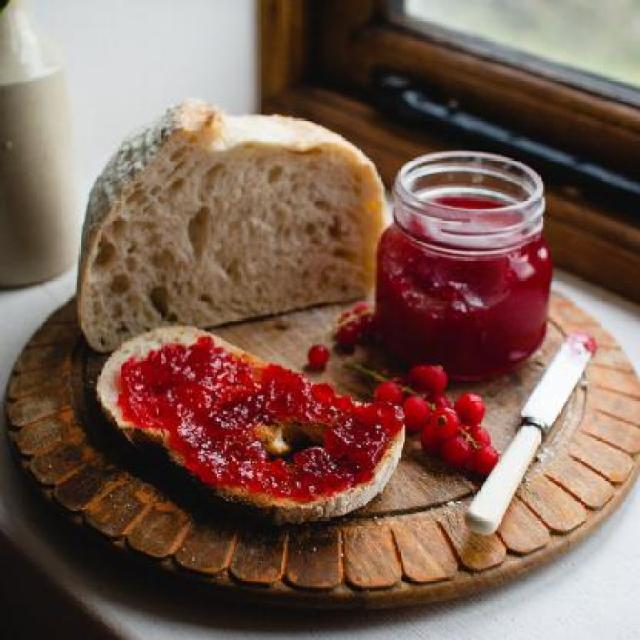Spread: (128, 342, 398, 508)
